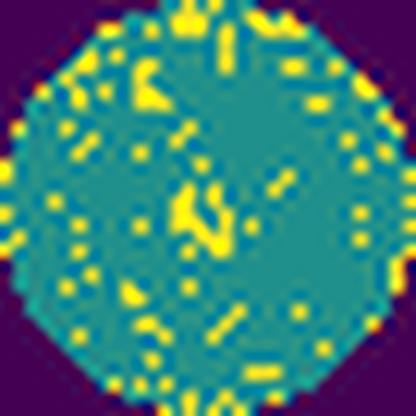Center: (170, 170, 234, 261)
